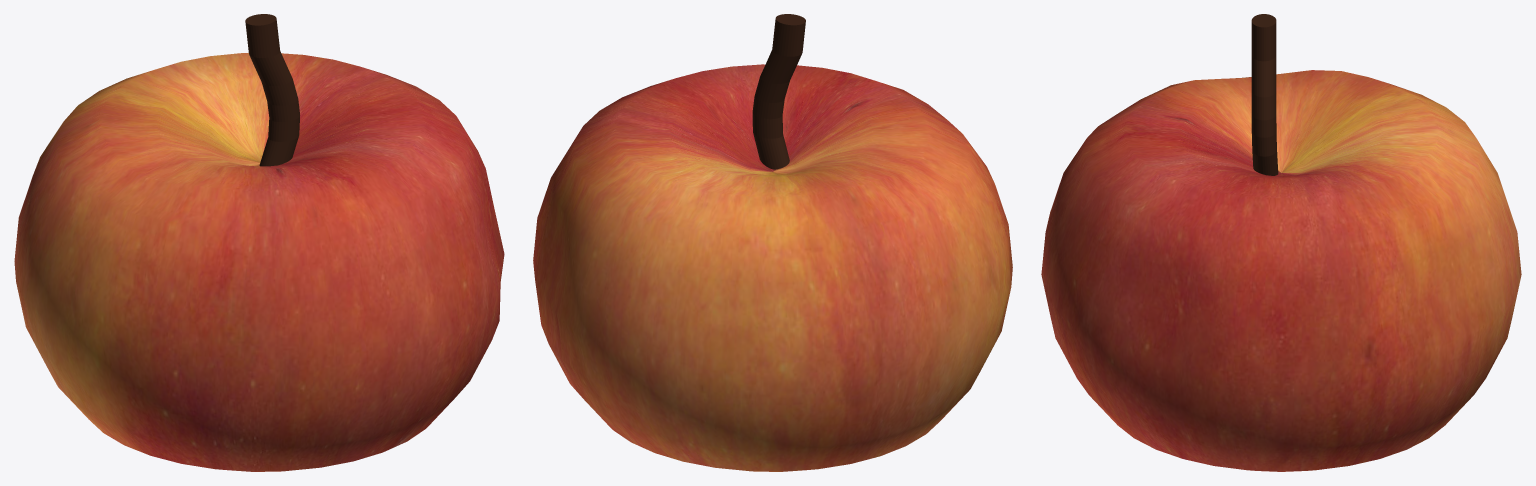
The model's file is Apple.obj.
The picture shows the model from 3 angles, left to right: view 1: azimuth 30°, elevation 25°; view 2: azimuth 150°, elevation 25°; view 3: azimuth 270°, elevation 25°; orthographic projection. The views are drawn at different scales.
Parts seen in each view (by area): view 1: Manzana, Tallo; view 2: Manzana, Tallo; view 3: Manzana, Tallo.
Part boxes in pixels (x1,y1,x2,y2): Manzana: [14, 53, 504, 471]; Tallo: [245, 14, 299, 166]; Manzana: [533, 64, 1012, 471]; Tallo: [752, 14, 805, 169]; Manzana: [1041, 70, 1521, 471]; Tallo: [1251, 14, 1278, 175].
Bounding box in the file's own units: 1.98 × 1.79 × 2.
2 materials, 1 textured.
